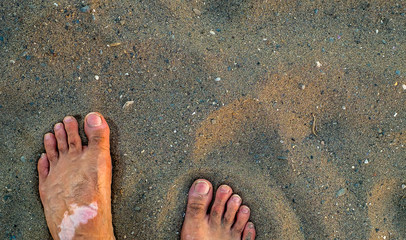vitiligo: (43, 180, 103, 240)
